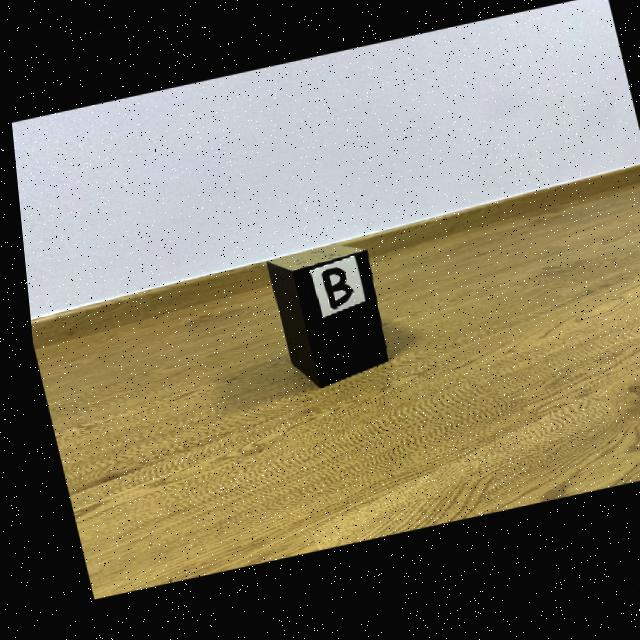B: (316, 273, 347, 313)
